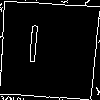I: (23, 25, 43, 72)
